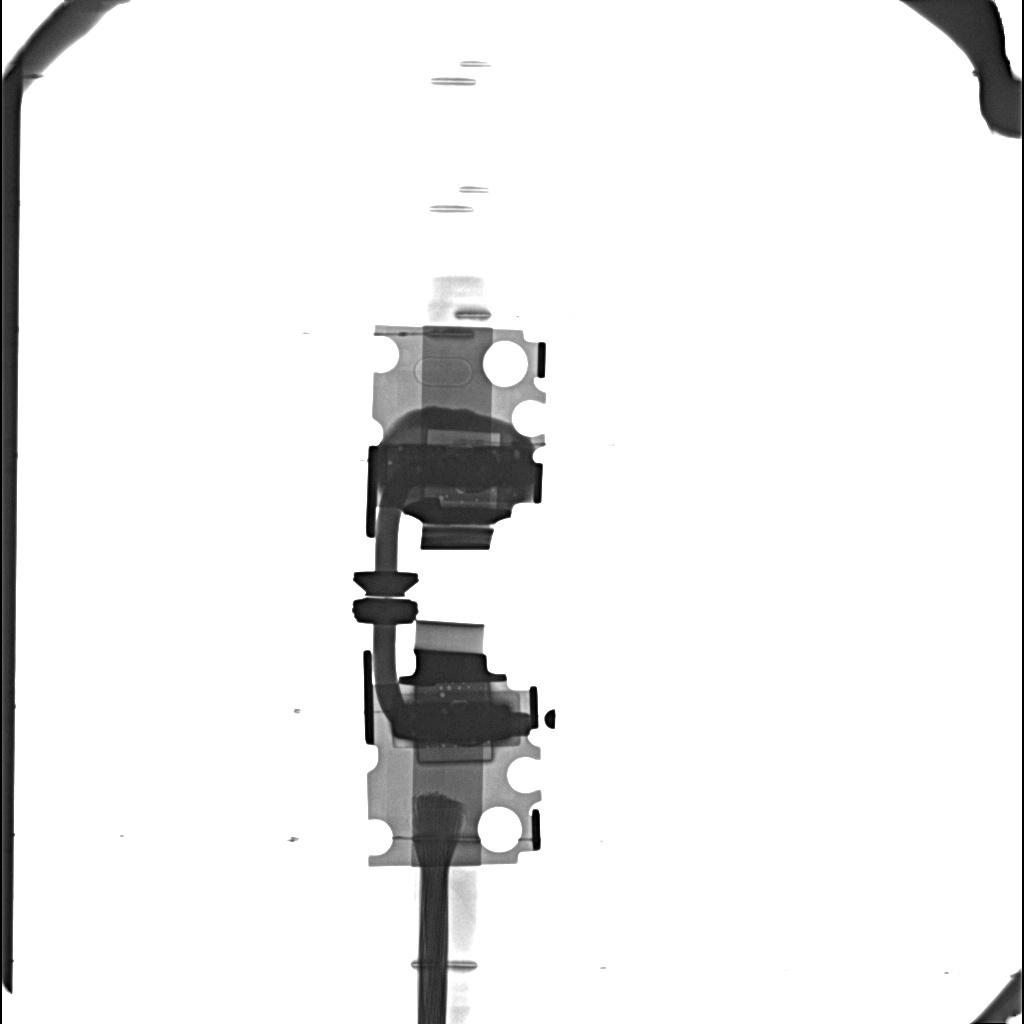气孔: (418, 743, 494, 764), (424, 427, 503, 445)
水纹: (387, 444, 535, 489), (392, 703, 512, 741)
